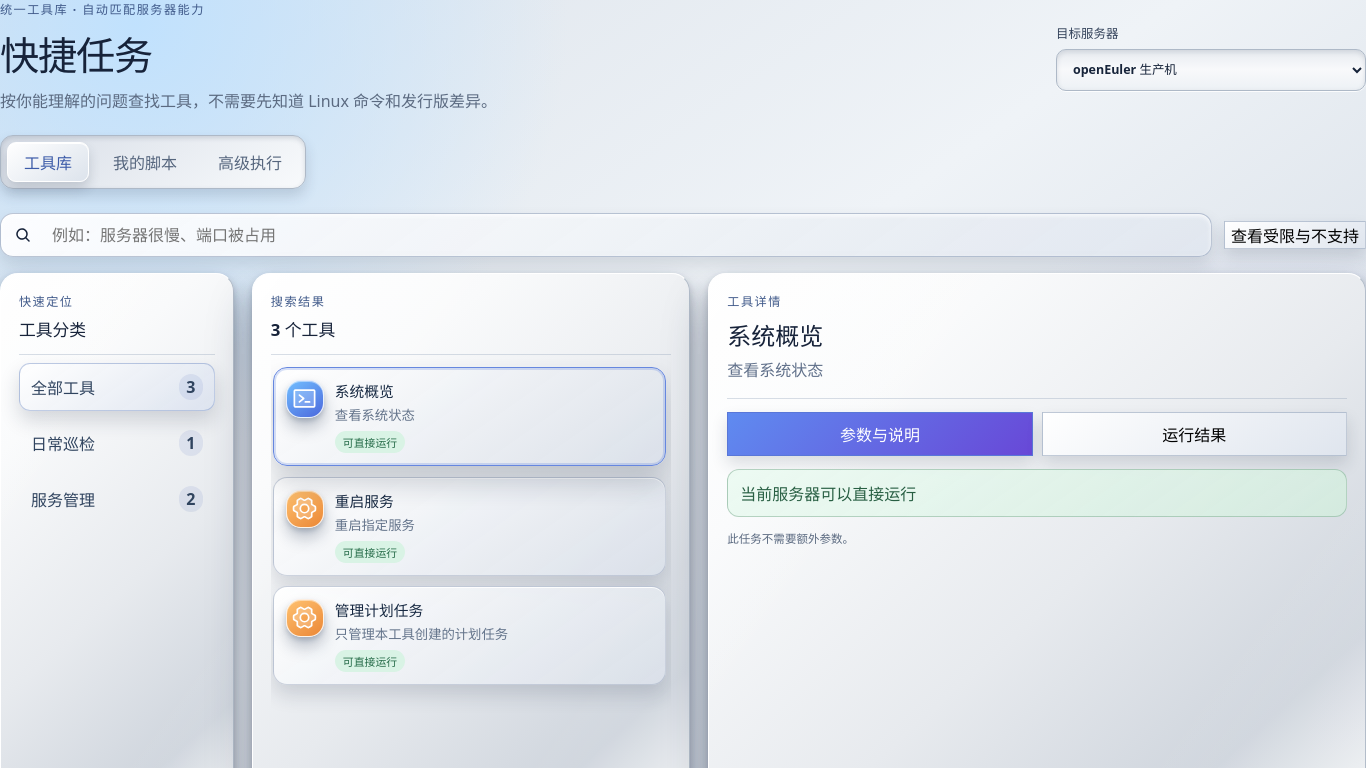
it: TaskPage › turns structured backend failures into actionable Chinese guidance
expect the heading "系统概览" below "个工具" is shown: met, box [335,381,394,401]
Click the button with aria-label "选择任务 系统概览". click: (305,399)
box: [273,367,666,466]
(page scrolled)
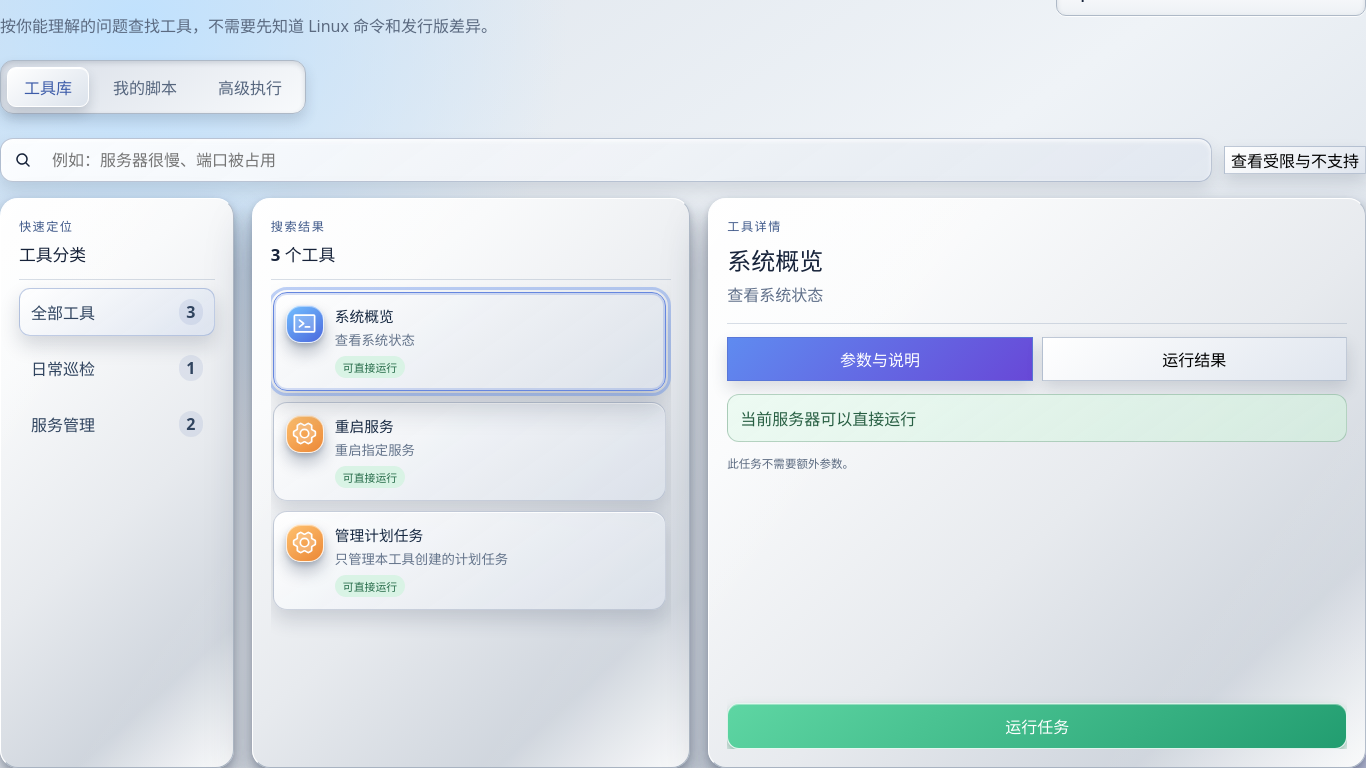
Click the button "运行任务". click: (1037,726)
box: [727,703,1347,749]
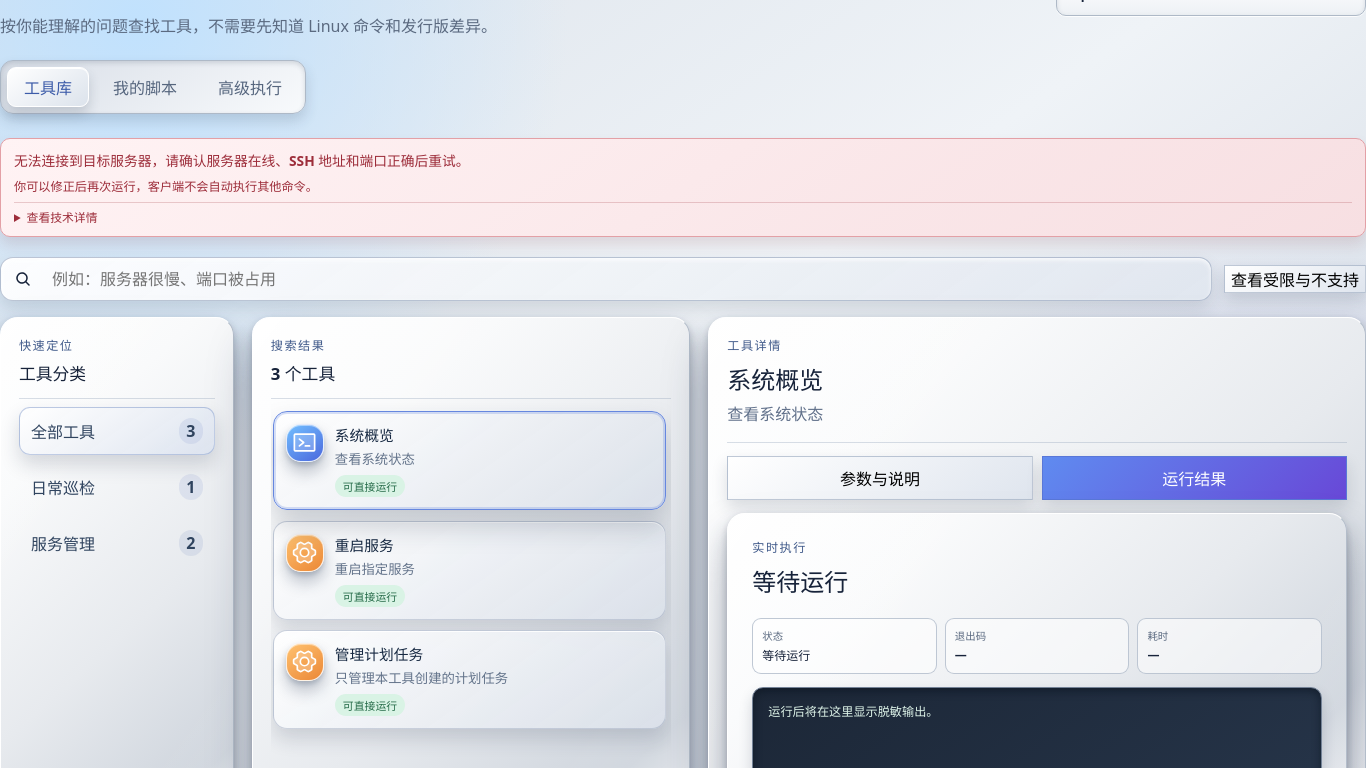
expect the text "无法连接到目标服务器，请确认服务器在线、SSH 地址和端口正确后重试。" is shown: met, box [14,151,470,170]
Click the heading "查看技术详情". click: (56,216)
box: [14,208,98,225]
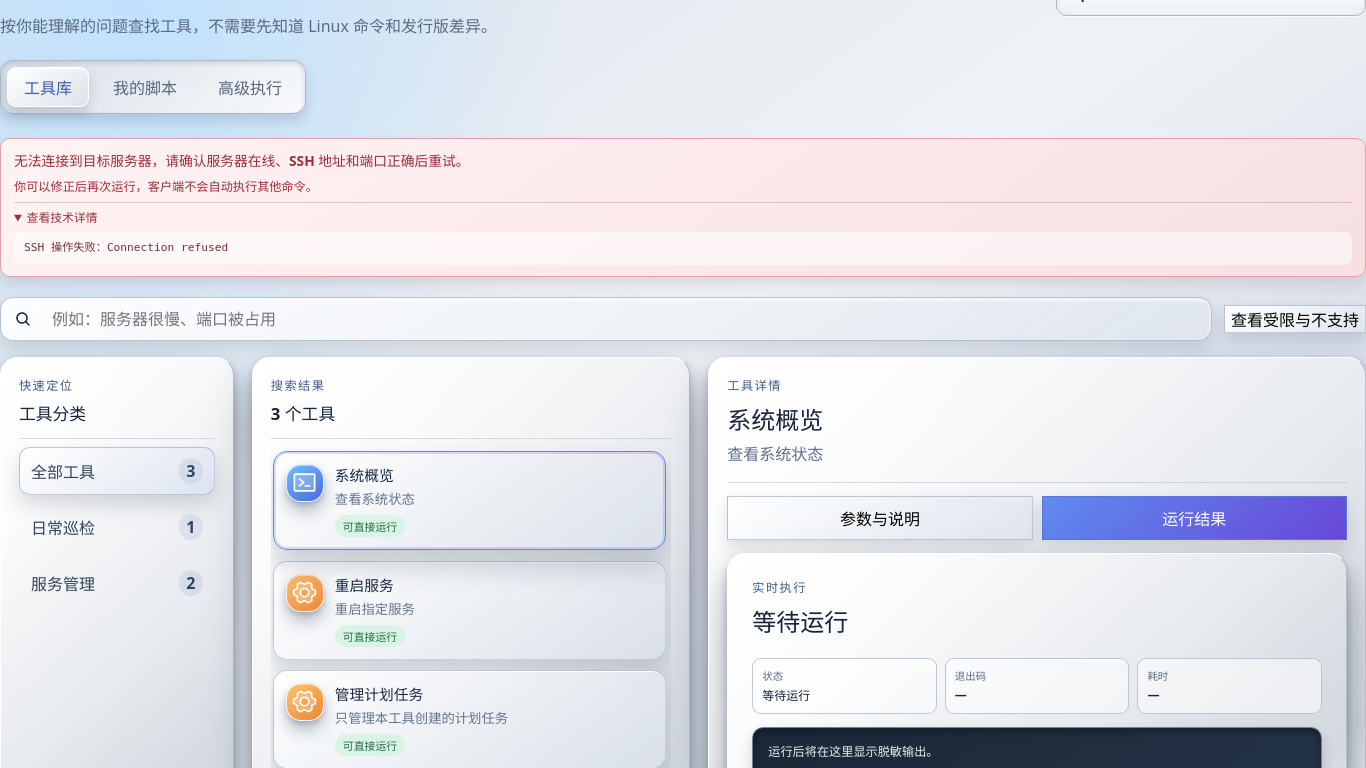
expect the text "SSH 操作失败：Connection refused" is shown: met, box [14,232,1352,265]
